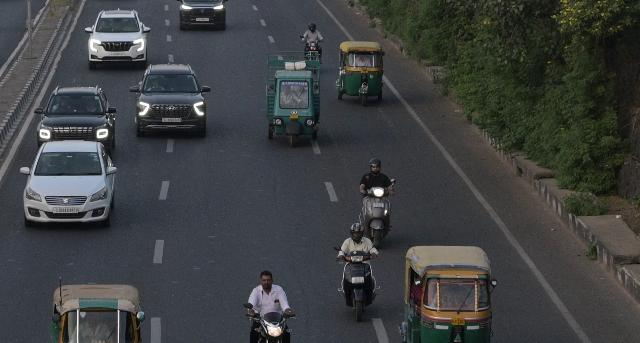With Helmet: (347, 221, 365, 240), (306, 22, 318, 36)
Without Helmet: (257, 269, 275, 287), (366, 157, 384, 175)
